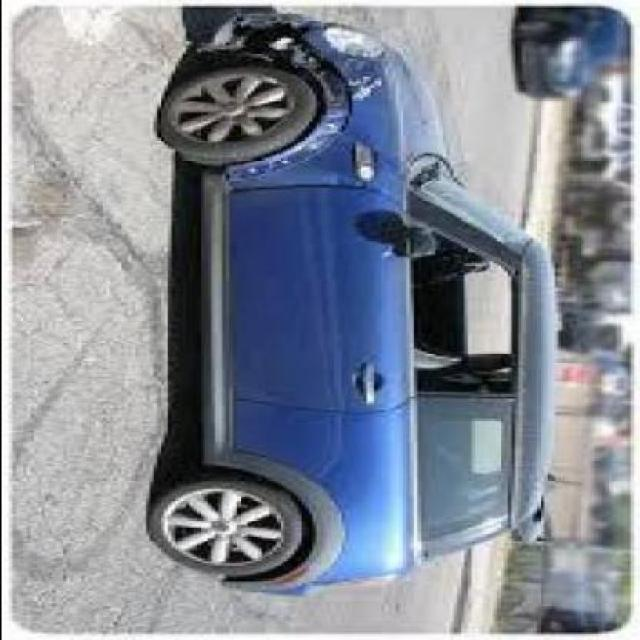damage: (208, 8, 381, 181)
